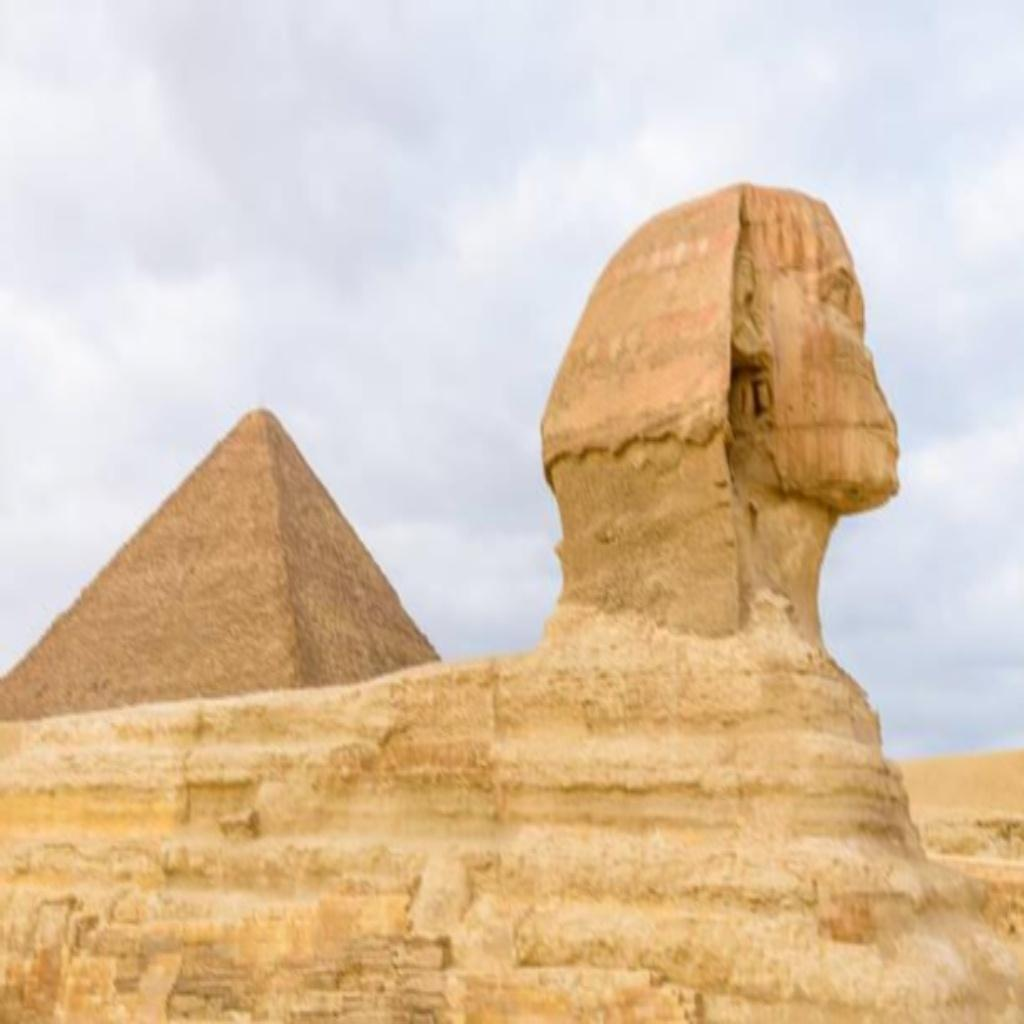Sphinx: (0, 176, 1021, 1022), (536, 176, 900, 658)
